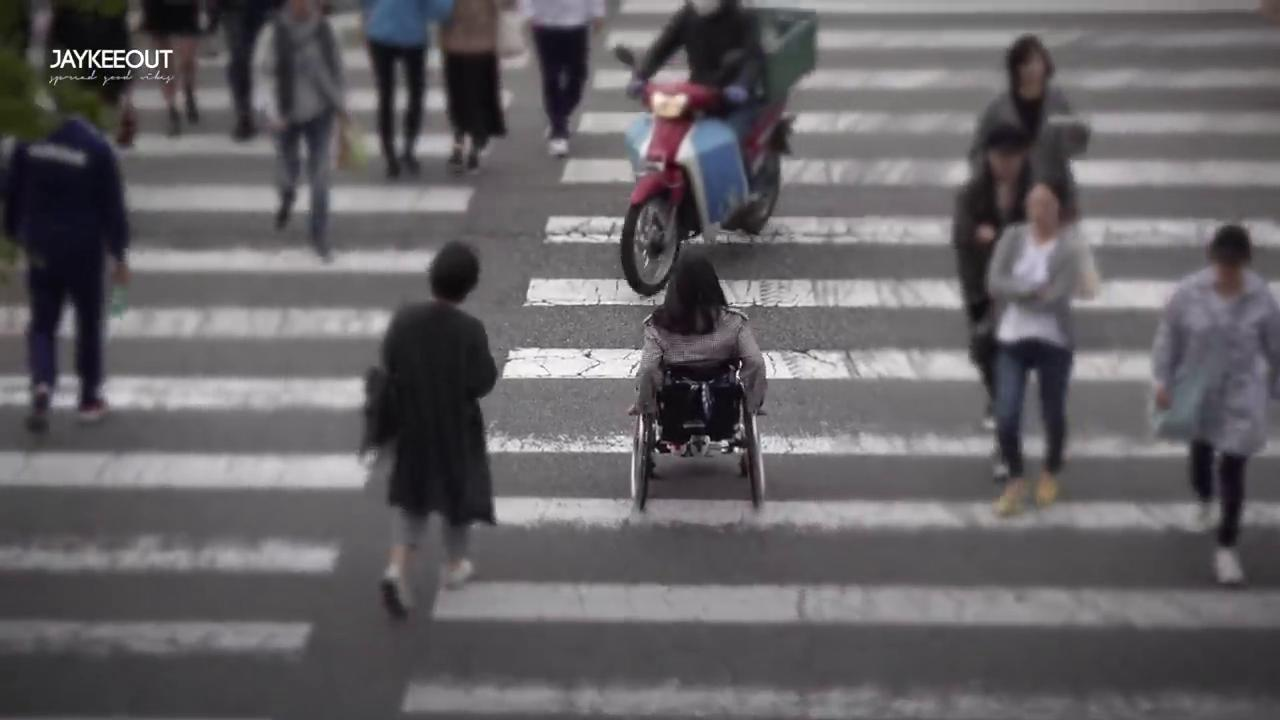wheelchair: (628, 254, 770, 512)
